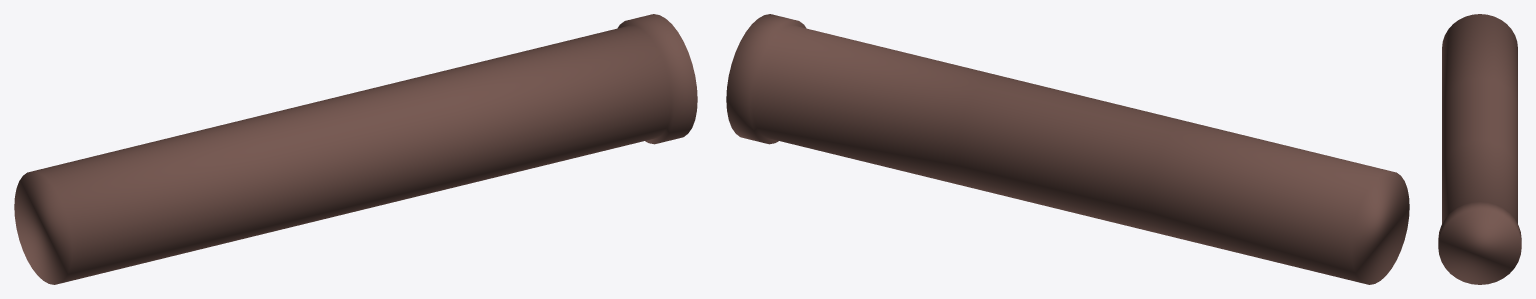
The model's file is straight_pipe_long01.glb.
The picture shows the model from 3 angles, left to right: view 1: azimuth 30°, elevation 25°; view 2: azimuth 150°, elevation 25°; view 3: azimuth 270°, elevation 25°; orthographic projection. The views are drawn at different scales.
Visible parts, largest first — view 1: StraightPipeLong-col; view 2: StraightPipeLong-col; view 3: StraightPipeLong-col.
Boxes of the visible parts, x1,y1,x2,y2 form: StraightPipeLong-col: [14, 14, 697, 284]; StraightPipeLong-col: [726, 14, 1409, 284]; StraightPipeLong-col: [1438, 14, 1521, 284].
Size of the model in its own units: 158 by 28.02 by 28.02.
